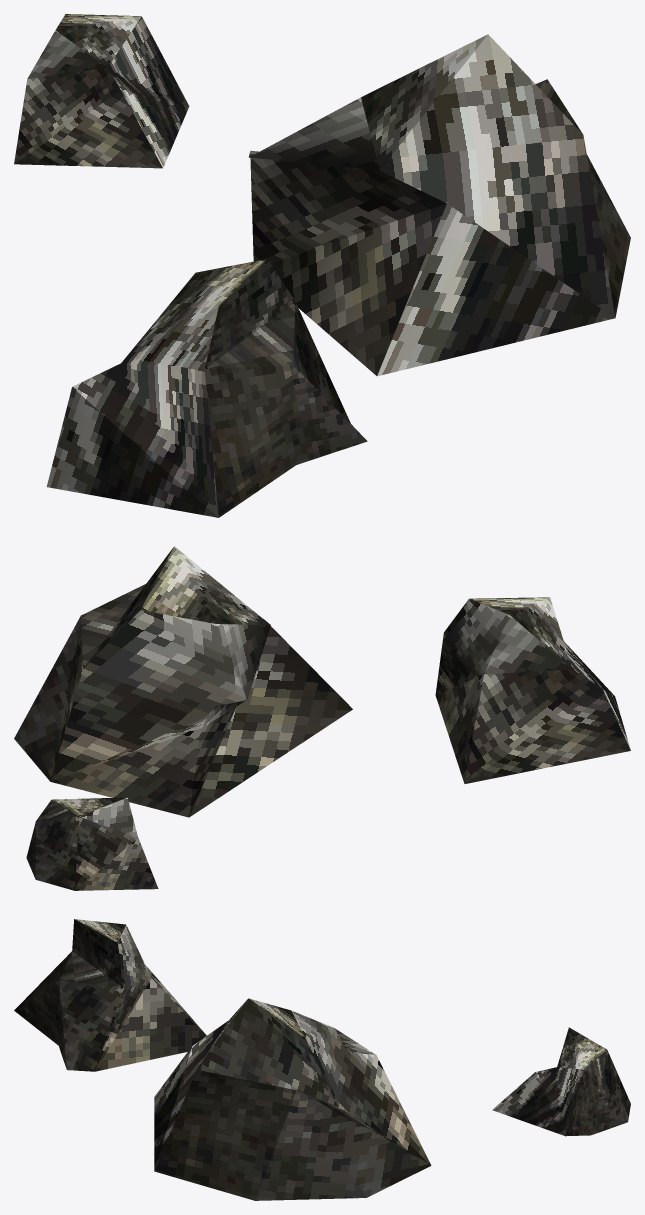
The model's file is Environment - Prop - Boulders - Damaged - PMBoulders_d.glb.
3 views of the same model, one above another, from view 1: azimuth 30°, elevation 25°; view 2: azimuth 150°, elevation 25°; view 3: azimuth 270°, elevation 25° (orthographic). The views are drawn at different scales.
Parts seen in each view (by area): view 1: PMBOULDERS_D; view 2: PMBOULDERS_D; view 3: PMBOULDERS_D.
Boxes of the visible parts, x1,y1,x2,y2 form: PMBOULDERS_D: (14, 14, 630, 517); PMBOULDERS_D: (14, 546, 630, 890); PMBOULDERS_D: (14, 919, 630, 1200).
Size of the model in its own units: 27.54 by 10.63 by 32.89.
1 material, 1 textured.
